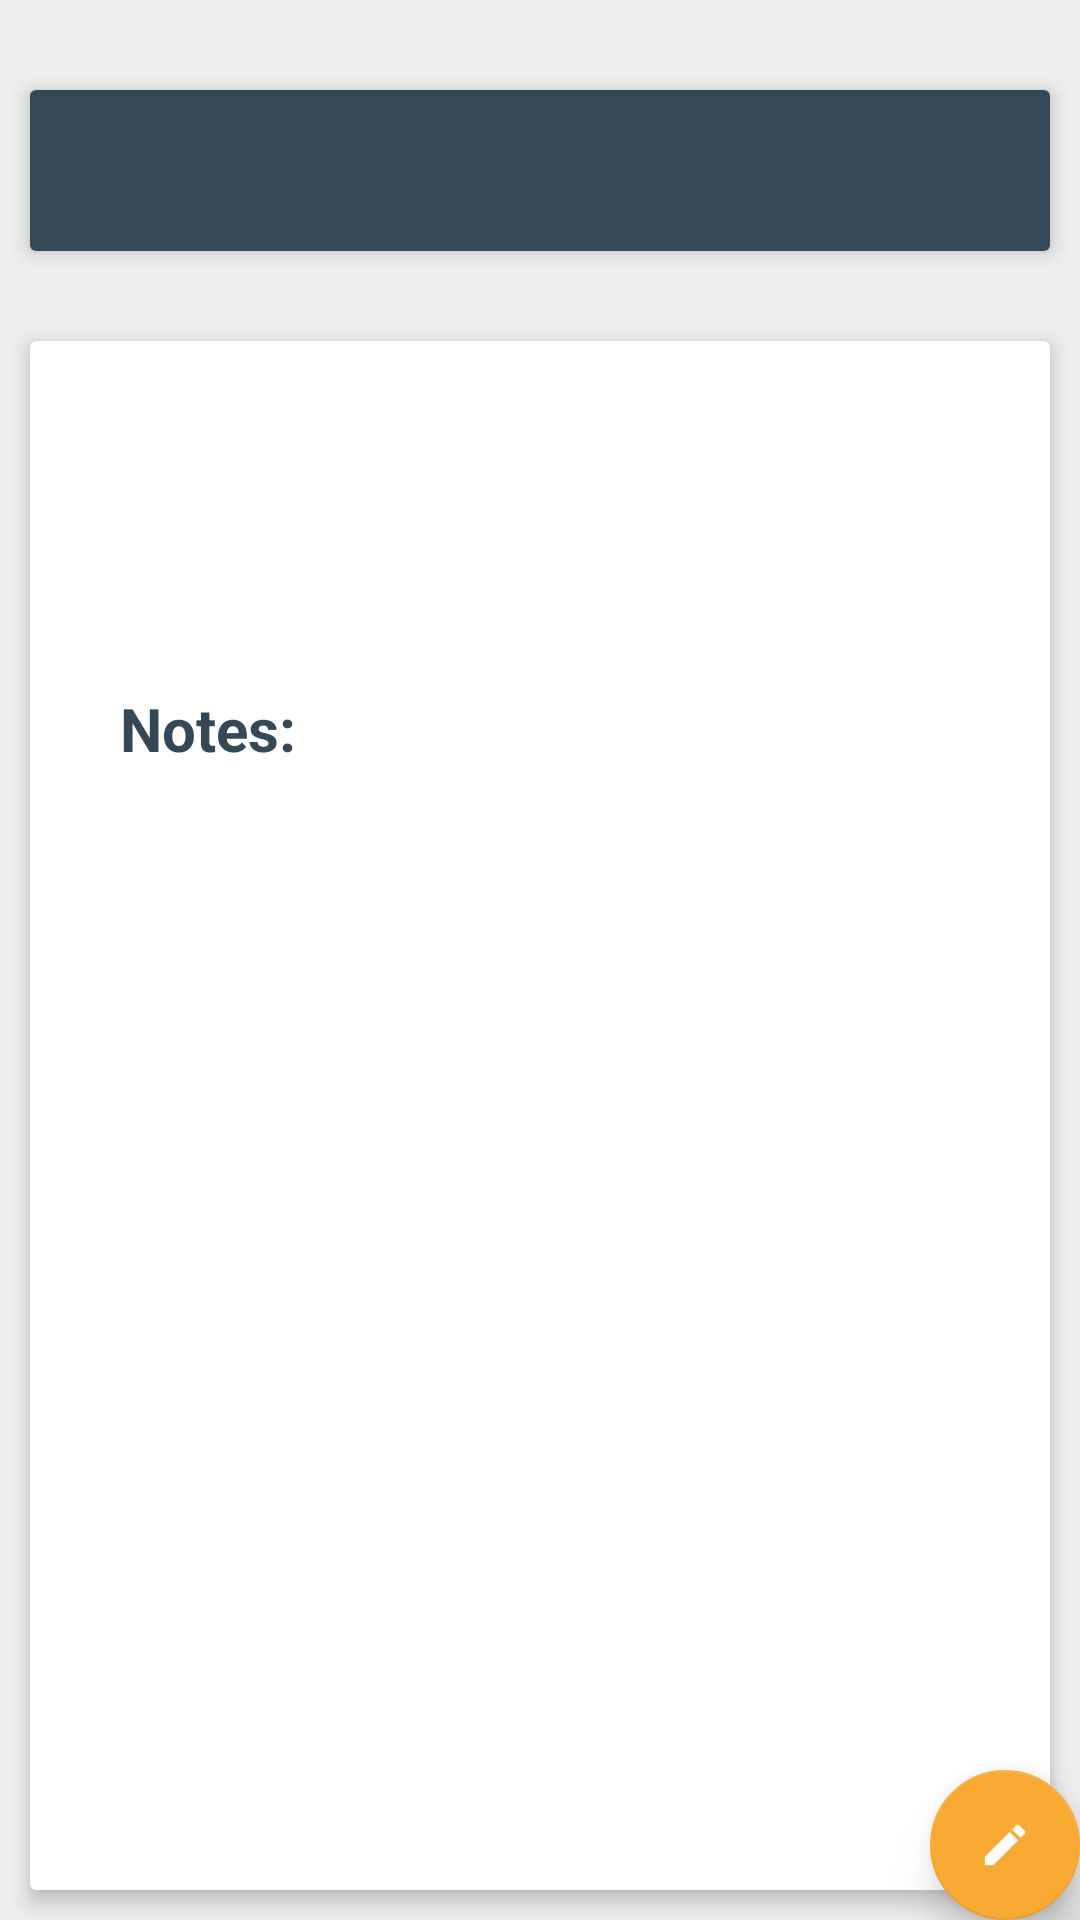

Icons on this 1080×1920 Android screen, each with its box as rect(x1, y1, x2, y2):
edit: rect(930, 1770, 1080, 1920)
